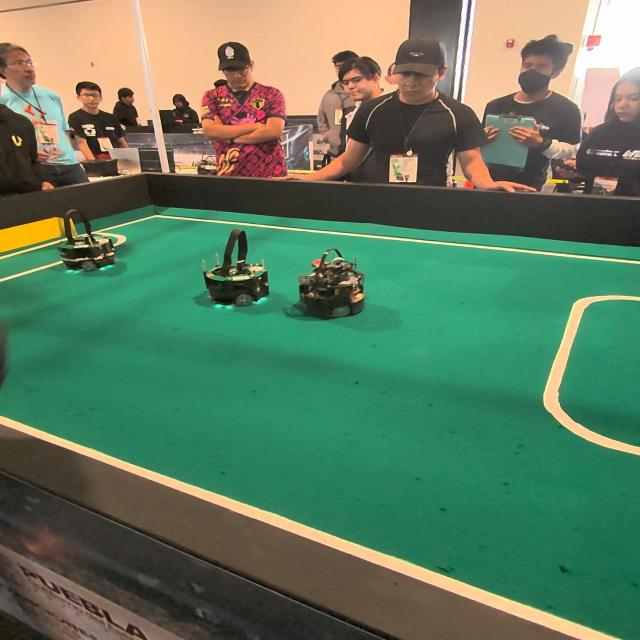Robot: (193, 225, 270, 316), (299, 248, 370, 323), (53, 205, 121, 278)
